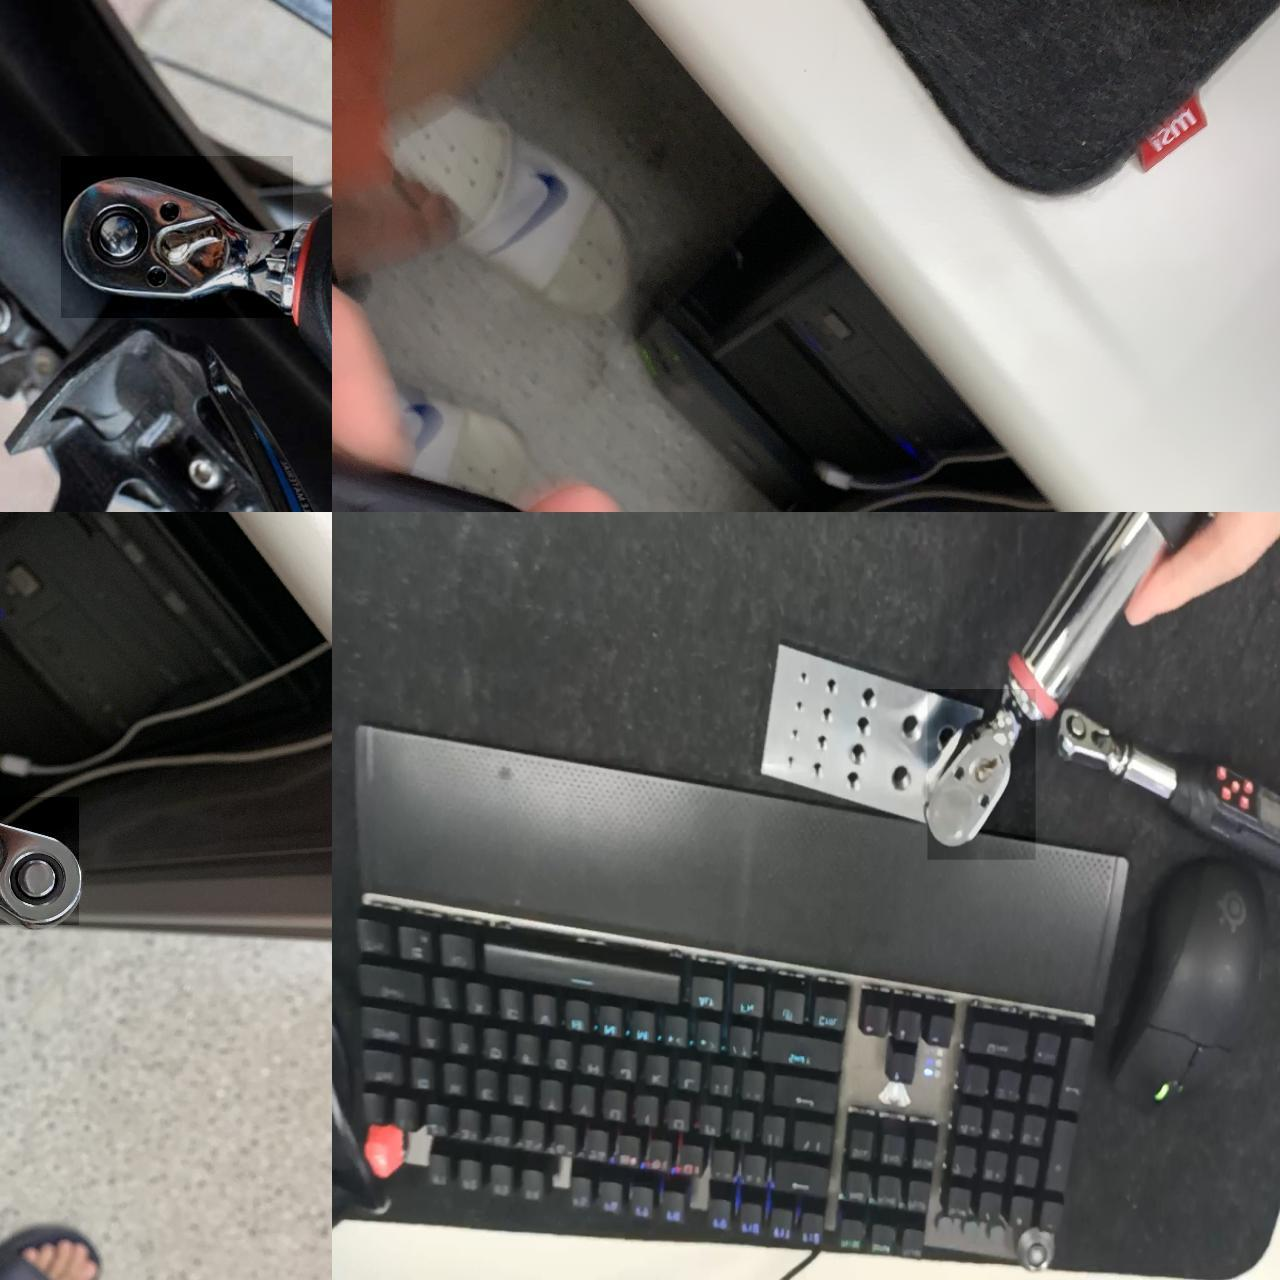Tool: (61, 156, 293, 318), (927, 689, 1035, 860), (0, 797, 79, 925), (1049, 703, 1136, 775)
